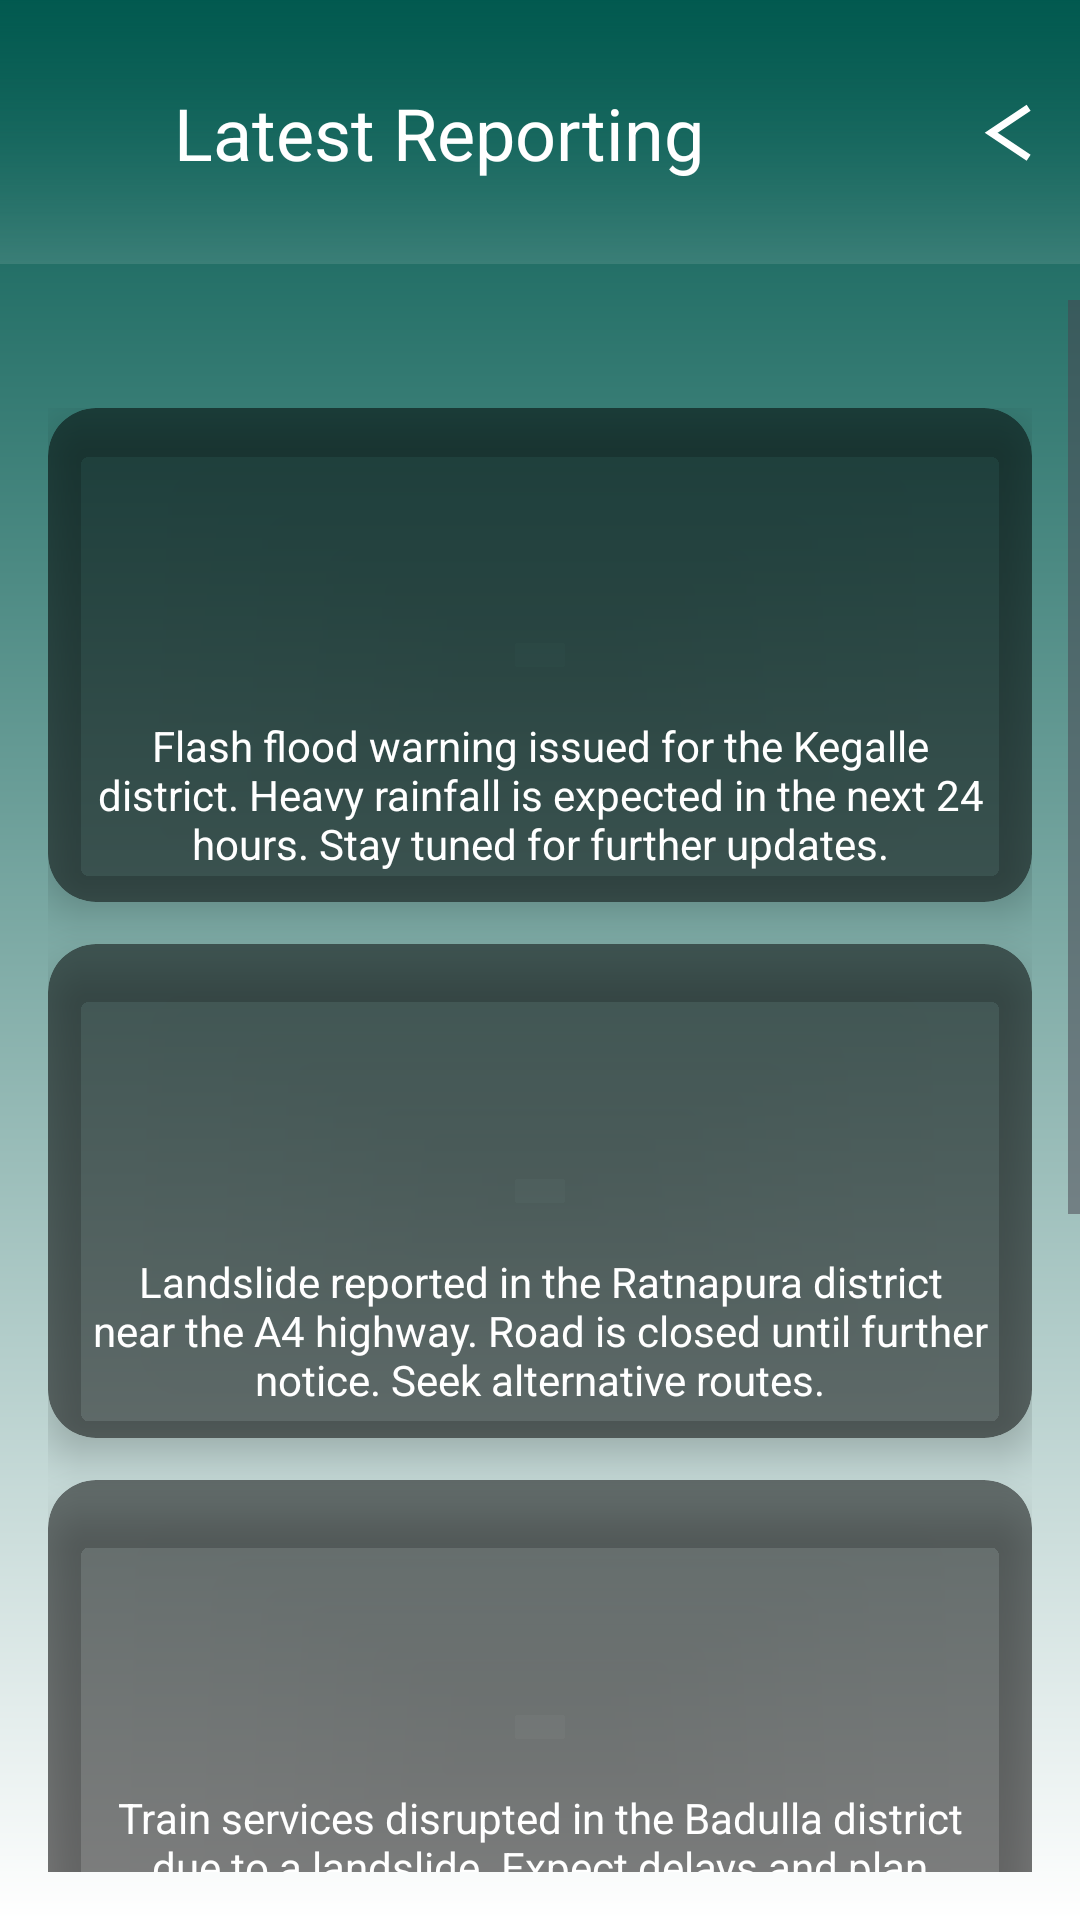

Screen size 1080w x 1920h. Icon name, then its box in pixels as Rect(x1, y1, x2, y2):
Back: Rect(985, 105, 1031, 161)
